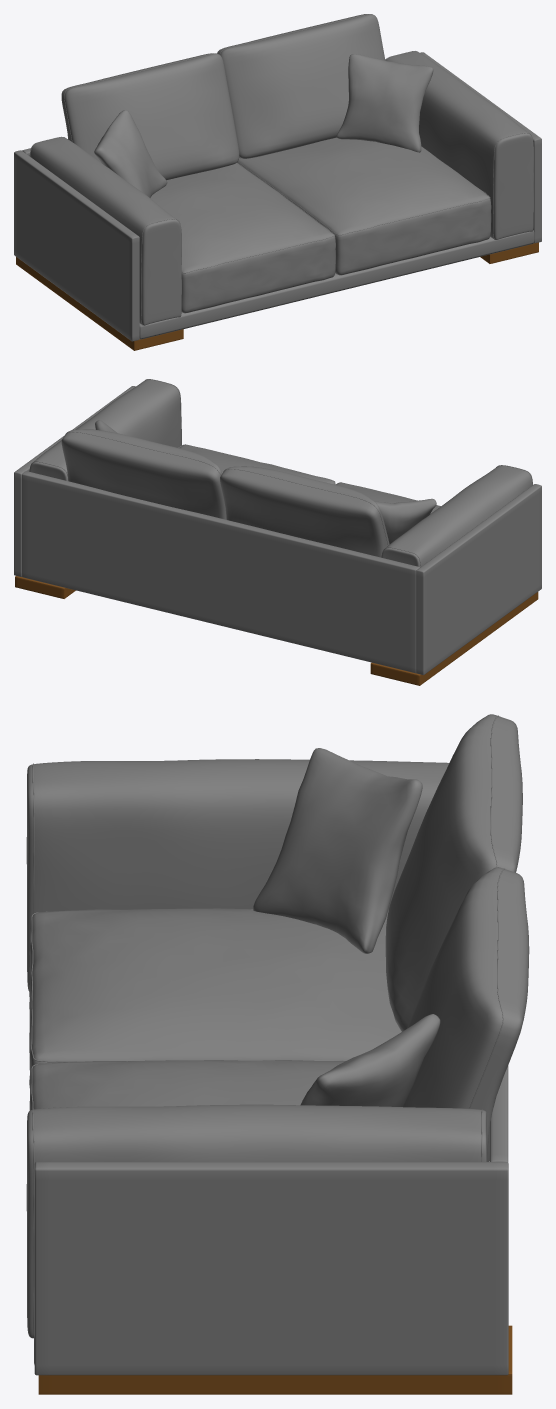
File: sofa.FBX
3 renders of one model, top to bottom at view 1: azimuth 30°, elevation 25°; view 2: azimuth 150°, elevation 25°; view 3: azimuth 270°, elevation 25°, orthographic. The views are drawn at different scales.
Parts seen in each view (by area): view 1: sofa, pillows, legs; view 2: sofa, legs, pillows; view 3: sofa, pillows, legs.
Part boxes in pixels (left/top/right/bottom): sofa: left=14, top=14, right=541, bottom=341; pillows: left=94, top=54, right=433, bottom=197; legs: left=16, top=242, right=538, bottom=350; sofa: left=14, top=379, right=541, bottom=675; legs: left=15, top=576, right=538, bottom=685; pillows: left=95, top=420, right=436, bottom=543; sofa: left=26, top=714, right=529, bottom=1375; pillows: left=253, top=748, right=440, bottom=1106; legs: left=38, top=1325, right=512, bottom=1394.
Size of the model in its own units: 208 by 82.24 by 110.
